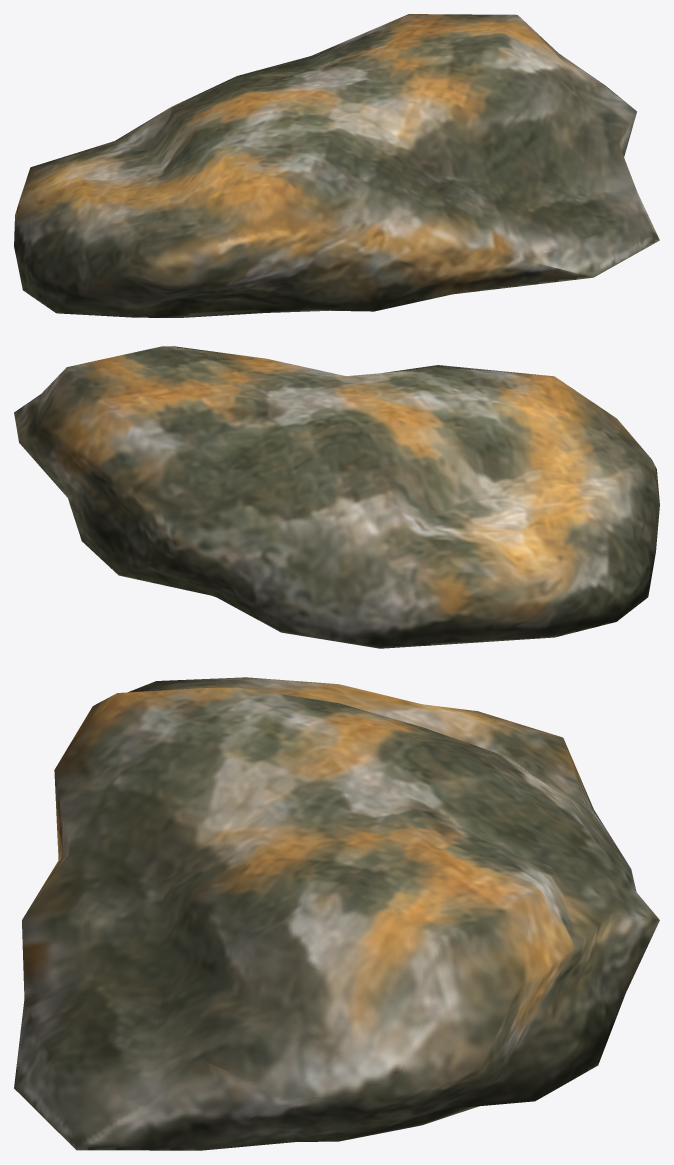
Rendered from item_mm9_10359.glb.
The picture shows the model from 3 angles, top to bottom: view 1: azimuth 30°, elevation 25°; view 2: azimuth 150°, elevation 25°; view 3: azimuth 270°, elevation 25°; orthographic projection. The views are drawn at different scales.
Parts seen in each view (by area): view 1: d10359; view 2: d10359; view 3: d10359.
Part boxes in pixels (x1,y1,x2,y2): d10359: (14, 14, 659, 317); d10359: (14, 346, 659, 648); d10359: (14, 677, 659, 1150).
Bounding box in the file's own units: 57.6 × 13.66 × 38.12.
1 material, 1 textured.
